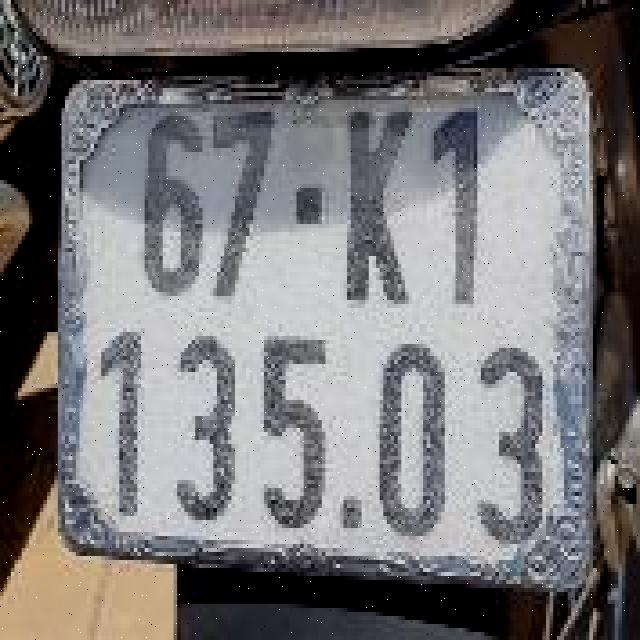0: (369, 316, 448, 552)
1: (90, 316, 152, 524), (436, 88, 486, 312)
3: (464, 332, 548, 560), (166, 314, 246, 534)
5: (257, 320, 325, 528)
6: (132, 100, 212, 296)
7: (210, 98, 278, 310)
K: (327, 84, 414, 316)
